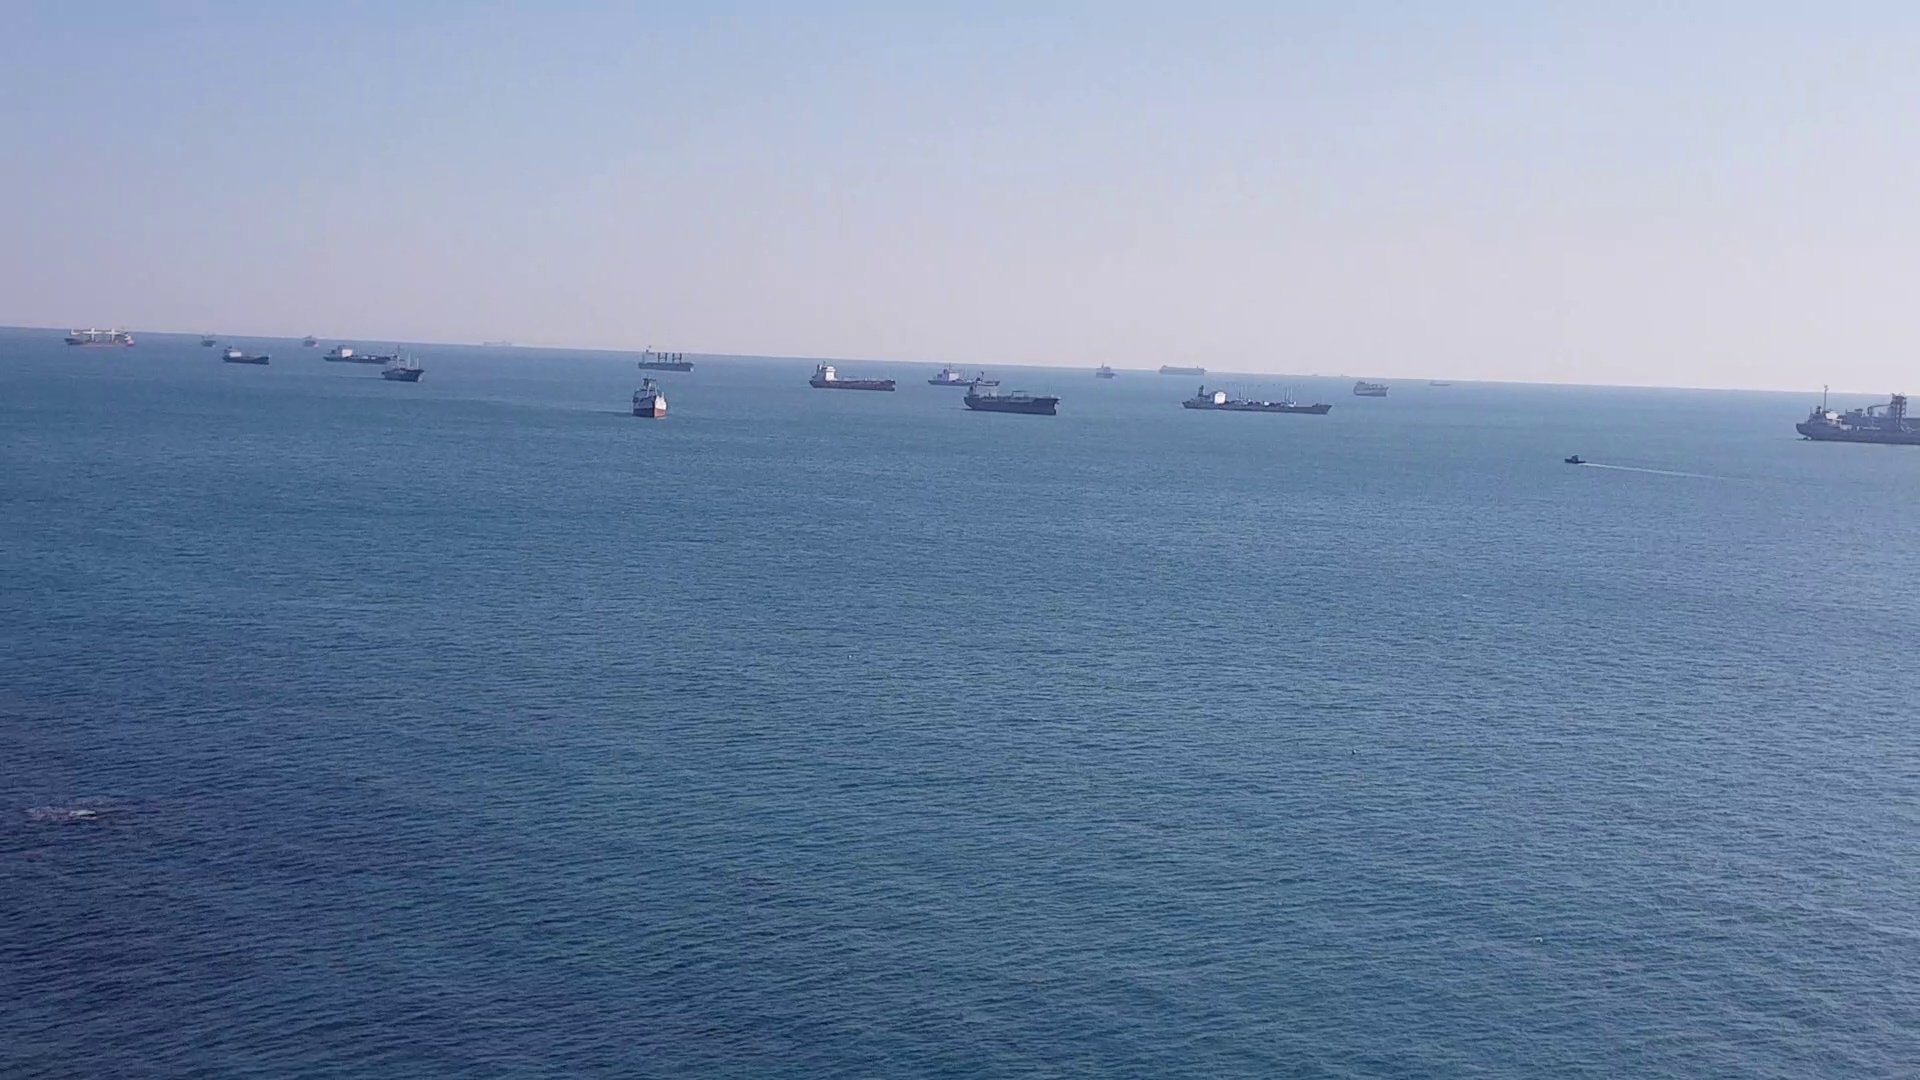Bulk_Carrier: (942, 382, 1058, 411), (313, 353, 425, 377), (800, 375, 894, 392)
